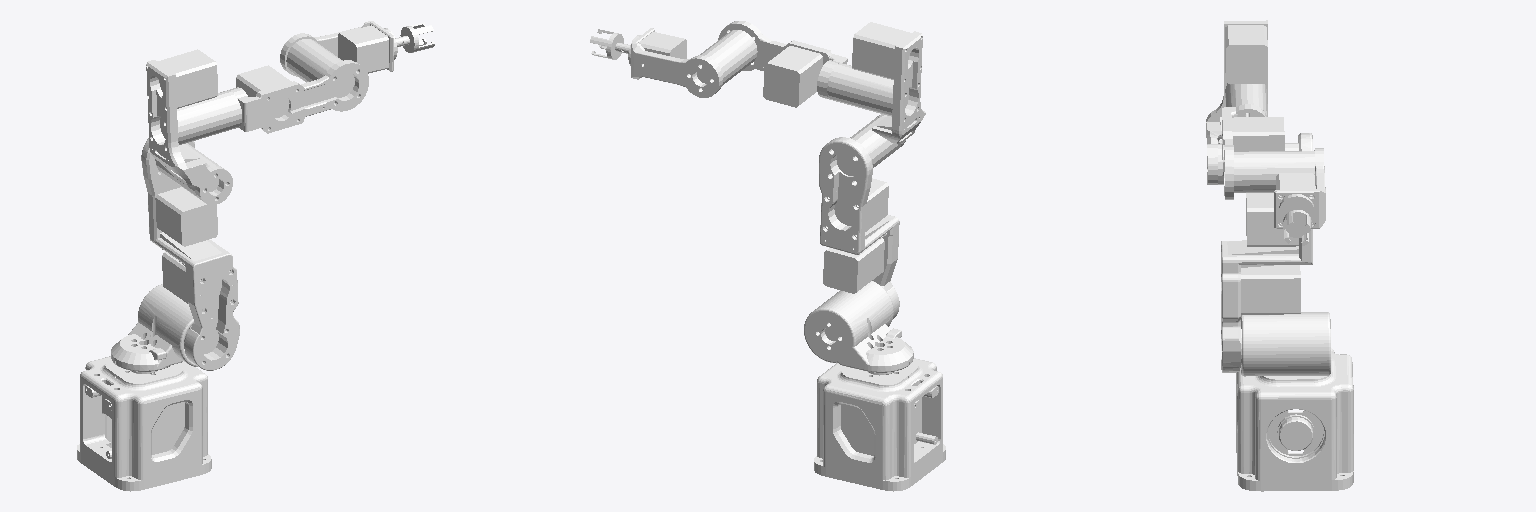
The robot description file, URDF, robot "dummy2-SLDASM":
<?xml version="1.0" encoding="utf-8"?>
<!-- This URDF was automatically created by SolidWorks to URDF Exporter! Originally created by [author] ([email redacted]) 
     Commit Version: 1.5.1-0-g916b5db  Build Version: 1.5.7152.31018
     For more information, please see http://wiki.ros.org/sw_urdf_exporter -->
<robot
  name="dummy2-SLDASM">
  <link
    name="base_link">
    <inertial>
      <origin
        xyz="0.0414130360937032 0.0406718044276676 0.0386845489683347"
        rpy="0 0 0" />
      <mass
        value="0.387673822333728" />
      <inertia
        ixx="0.000777649014838783"
        ixy="-2.70111444450116E-07"
        ixz="-7.00973333936696E-06"
        iyy="0.000718387993685806"
        iyz="-8.02049294338553E-07"
        izz="0.000791143378494355" />
    </inertial>
    <visual>
      <origin
        xyz="0 0 0"
        rpy="0 0 0" />
      <geometry>
        <mesh
          filename="package://dummy2-gripperv3_description/meshes/base_link.STL" />
      </geometry>
      <material
        name="">
        <color
          rgba="1 1 1 1" />
      </material>
    </visual>
    <collision>
      <origin
        xyz="0 0 0"
        rpy="0 0 0" />
      <geometry>
        <mesh
          filename="package://dummy2-gripperv3_description/meshes/base_link.STL" />
      </geometry>
    </collision>
  </link>
  <link
    name="l1">
    <inertial>
      <origin
        xyz="0.0269163124747258 -0.0056237301524306 0.0344105082650809"
        rpy="0 0 0" />
      <mass
        value="0.192001303218632" />
      <inertia
        ixx="0.000147334590447093"
        ixy="1.12051433464132E-05"
        ixz="-4.26888163188289E-05"
        iyy="0.000157405351191848"
        iyz="7.79877632367723E-06"
        izz="0.000177766468080378" />
    </inertial>
    <visual>
      <origin
        xyz="0 0 0"
        rpy="0 0 0" />
      <geometry>
        <mesh
          filename="package://dummy2-gripperv3_description/meshes/l1.STL" />
      </geometry>
      <material
        name="">
        <color
          rgba="1 1 1 1" />
      </material>
    </visual>
    <collision>
      <origin
        xyz="0 0 0"
        rpy="0 0 0" />
      <geometry>
        <mesh
          filename="package://dummy2-gripperv3_description/meshes/l1.STL" />
      </geometry>
    </collision>
  </link>
  <joint
    name="j1"
    type="revolute">
    <origin
      xyz="0.0392540163906673 0.0407323237392788 0.0820000000000018"
      rpy="0 0 0" />
    <parent
      link="base_link" />
    <child
      link="l1" />
    <axis
      xyz="0 0 1" />
    <limit
      lower="-3.14"
      upper="3.14"
      effort="0"
      velocity="0" />
  </joint>
  <link
    name="l2">
    <inertial>
      <origin
        xyz="-0.0024744 0.10233 -0.022453"
        rpy="0 0 0" />
      <mass
        value="0.31882" />
      <inertia
        ixx="0.0010182"
        ixy="5.4742E-05"
        ixz="-6.4406E-06"
        iyy="0.00020838"
        iyz="0.00010214"
        izz="0.0009056" />
    </inertial>
    <visual>
      <origin
        xyz="0 0 0"
        rpy="0 0 0" />
      <geometry>
        <mesh
          filename="package://dummy2-gripperv3_description/meshes/l2.STL" />
      </geometry>
      <material
        name="">
        <color
          rgba="1 1 1 1" />
      </material>
    </visual>
    <collision>
      <origin
        xyz="0 0 0"
        rpy="0 0 0" />
      <geometry>
        <mesh
          filename="package://dummy2-gripperv3_description/meshes/l2.STL" />
      </geometry>
    </collision>
  </link>
  <joint
    name="j2"
    type="revolute">
    <origin
      xyz="0.0391139899839922 -0.0475202565028203 0.0424031868280582"
      rpy="1.57079632679491 0 0.0217856610140804" />
    <parent
      link="l1" />
    <child
      link="l2" />
    <axis
      xyz="0 0 -1" />
    <limit
      lower="-3.14"
      upper="3.14"
      effort="0"
      velocity="0" />
  </joint>
  <link
    name="l3">
    <inertial>
      <origin
        xyz="0.00982202582825078 -0.065705588173923 -0.0227777009132376"
        rpy="0 0 0" />
      <mass
        value="0.177031969385558" />
      <inertia
        ixx="0.000196740625169965"
        ixy="6.39357247299932E-06"
        ixz="-1.2869164739589E-06"
        iyy="0.000100666168469324"
        iyz="-2.26749158246386E-05"
        izz="0.000243511147945243" />
    </inertial>
    <visual>
      <origin
        xyz="0 0 0"
        rpy="0 0 0" />
      <geometry>
        <mesh
          filename="package://dummy2-gripperv3_description/meshes/l3.STL" />
      </geometry>
      <material
        name="">
        <color
          rgba="1 1 1 1" />
      </material>
    </visual>
    <collision>
      <origin
        xyz="0 0 0"
        rpy="0 0 0" />
      <geometry>
        <mesh
          filename="package://dummy2-gripperv3_description/meshes/l3.STL" />
      </geometry>
    </collision>
  </link>
  <joint
    name="j3"
    type="revolute">
    <origin
      xyz="-0.00647360594018897 0.168725443290264 0.0191499999999696"
      rpy="0 0 -3.14159265358979" />
    <parent
      link="l2" />
    <child
      link="l3" />
    <axis
      xyz="0 0 -1" />
    <limit
      lower="-3.14"
      upper="3.14"
      effort="0"
      velocity="0" />
  </joint>
  <link
    name="l4">
    <inertial>
      <origin
        xyz="0.00875633257448984 -0.00120706473295173 0.0721271140835659"
        rpy="0 0 0" />
      <mass
        value="0.169343235311395" />
      <inertia
        ixx="0.000272837799469975"
        ixy="-1.37510341482809E-06"
        ixz="-4.44369379231373E-05"
        iyy="0.000325021018054113"
        iyz="-5.85486926747817E-06"
        izz="8.92852063803601E-05" />
    </inertial>
    <visual>
      <origin
        xyz="0 0 0"
        rpy="0 0 0" />
      <geometry>
        <mesh
          filename="package://dummy2-gripperv3_description/meshes/l4.STL" />
      </geometry>
      <material
        name="">
        <color
          rgba="1 1 1 1" />
      </material>
    </visual>
    <collision>
      <origin
        xyz="0 0 0"
        rpy="0 0 0" />
      <geometry>
        <mesh
          filename="package://dummy2-gripperv3_description/meshes/l4.STL" />
      </geometry>
    </collision>
  </link>
  <joint
    name="j4"
    type="revolute">
    <origin
      xyz="-0.037831 -0.056583 -0.02515"
      rpy="3.101 1.5708 0" />
    <parent
      link="l3" />
    <child
      link="l4" />
    <axis
      xyz="0 0 1" />
    <limit
      lower="-3.14"
      upper="3.14"
      effort="0"
      velocity="0" />
  </joint>
  <link
    name="l5">
    <inertial>
      <origin
        xyz="0.0503111008189627 -0.000539752076599731 -0.0586137579632375"
        rpy="0 0 0" />
      <mass
        value="0.0670202076275983" />
      <inertia
        ixx="1.65218379011082E-05"
        ixy="3.15300079319617E-07"
        ixz="-9.04914206209732E-06"
        iyy="4.584421849236E-05"
        iyz="6.5228627023569E-08"
        izz="4.0972293581658E-05" />
    </inertial>
    <visual>
      <origin
        xyz="0 0 0"
        rpy="0 0 0" />
      <geometry>
        <mesh
          filename="package://dummy2-gripperv3_description/meshes/l5.STL" />
      </geometry>
      <material
        name="">
        <color
          rgba="1 1 1 1" />
      </material>
    </visual>
    <collision>
      <origin
        xyz="0 0 0"
        rpy="0 0 0" />
      <geometry>
        <mesh
          filename="package://dummy2-gripperv3_description/meshes/l5.STL" />
      </geometry>
    </collision>
  </link>
  <joint
    name="j5"
    type="revolute">
    <origin
      xyz="-0.014464 -4.7163E-05 0.11"
      rpy="1.5708 -1.5302 -1.5675" />
    <parent
      link="l4" />
    <child
      link="l5" />
    <axis
      xyz="0 0 1" />
    <limit
      lower="-3.14"
      upper="3.14"
      effort="0"
      velocity="0" />
  </joint>
  <link
    name="l6">
    <inertial>
      <origin
        xyz="1.14605602785645E-10 4.2896131091652E-11 -0.0028358915417413"
        rpy="0 0 0" />
      <mass
        value="0.00415080295459014" />
      <inertia
        ixx="4.39181646124603E-07"
        ixy="-4.17234486196236E-11"
        ixz="5.18167500674017E-15"
        iyy="4.38951442749453E-07"
        iyz="1.79463377636992E-15"
        izz="3.0018416400469E-07" />
    </inertial>
    <visual>
      <origin
        xyz="0 0 0"
        rpy="0 0 0" />
      <geometry>
        <mesh
          filename="package://dummy2-gripperv3_description/meshes/l6.STL" />
      </geometry>
      <material
        name="">
        <color
          rgba="1 1 1 1" />
      </material>
    </visual>
    <collision>
      <origin
        xyz="0 0 0"
        rpy="0 0 0" />
      <geometry>
        <mesh
          filename="package://dummy2-gripperv3_description/meshes/l6.STL" />
      </geometry>
    </collision>
  </link>
  <joint
    name="j6"
    type="revolute">
    <origin
      xyz="0.106996171166484 -0.000960101234833921 -0.0526108232633675"
      rpy="-1.57079632679544 1.56753815017486 -1.58276052327955" />
    <parent
      link="l5" />
    <child
      link="l6" />
    <axis
      xyz="0 0 -1" />
    <limit
      lower="-3.14"
      upper="3.14"
      effort="0"
      velocity="0" />
  </joint>
</robot>

--- Render facts (derived) ---
Views: 3 orthographic renders of the robot side by side, from view 1: azimuth 30°, elevation 25°; view 2: azimuth 150°, elevation 25°; view 3: azimuth 270°, elevation 25°.
Model dummy2-SLDASM with 7 links and 6 joints (6 revolute), rooted at base_link, posed all joints at 0.
Links seen in each view (by area): view 1: base_link, l2, l3, l4, l1, l5, l6; view 2: base_link, l2, l3, l1, l4, l5, l6; view 3: base_link, l2, l4, l1, l3, l5, l6.
Boxes of the visible links, <box> form: base_link: <box>77,356,211,491</box>; l2: <box>141,138,239,370</box>; l3: <box>146,49,241,204</box>; l4: <box>229,39,368,133</box>; l1: <box>111,284,218,373</box>; l5: <box>280,21,397,76</box>; l6: <box>395,22,434,52</box>; base_link: <box>814,358,945,491</box>; l2: <box>819,117,900,318</box>; l3: <box>827,22,925,149</box>; l1: <box>804,281,913,375</box>; l4: <box>697,21,847,107</box>; l5: <box>628,28,722,97</box>; l6: <box>590,29,629,59</box>; base_link: <box>1236,348,1353,491</box>; l2: <box>1218,133,1312,372</box>; l4: <box>1222,104,1314,199</box>; l1: <box>1241,312,1330,376</box>; l3: <box>1206,20,1267,184</box>; l5: <box>1274,148,1325,228</box>; l6: <box>1283,210,1311,245</box>.
Size in the robot's own frame: 0.3552 by 0.1271 by 0.421 metres.
7 mesh visuals loaded from 7 distinct referenced files (7 binary STL).